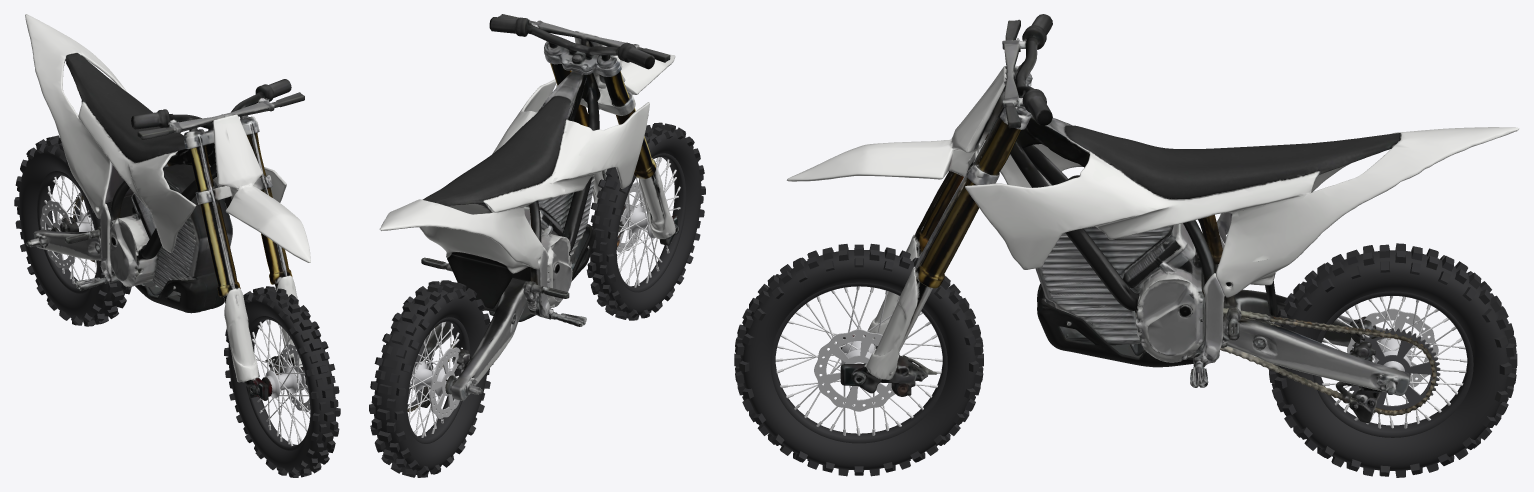
File: dirt_bike_white.glb
3 renders of one model, left to right at view 1: azimuth 30°, elevation 25°; view 2: azimuth 150°, elevation 25°; view 3: azimuth 270°, elevation 25°, orthographic. The views are drawn at different scales.
Parts seen in each view (by area): view 1: Body, Steering_Mesh, Wheel_F, Wheel_R, ForkLower_Mesh, Swingarm_Mesh; view 2: Body, Wheel_R, Wheel_F, Steering_Mesh, Swingarm_Mesh, ForkLower_Mesh; view 3: Body, Wheel_R, Wheel_F, Steering_Mesh, Swingarm_Mesh, ForkLower_Mesh.
Part boxes in pixels (x1,y1,x2,y2): Body: (25,14,286,367); Steering_Mesh: (131,79,310,286); Wheel_F: (224,286,340,477); Wheel_R: (14,135,131,326); ForkLower_Mesh: (217,269,307,400); Swingarm_Mesh: (33,195,131,267); Body: (379,53,649,395); Wheel_R: (369,280,493,477); Wheel_F: (586,122,705,320); Steering_Mesh: (489,14,675,171); Swingarm_Mesh: (407,272,539,411); ForkLower_Mesh: (592,158,679,247); Body: (919,107,1519,394); Wheel_R: (1268,243,1517,477); Wheel_F: (734,243,983,476); Steering_Mesh: (786,14,1052,275); Swingarm_Mesh: (1217,267,1436,423); ForkLower_Mesh: (840,229,944,396).
Size of the model in its own units: 0.6738 by 1.27 by 2.18.
Materials: 7 (1 with a texture image).
